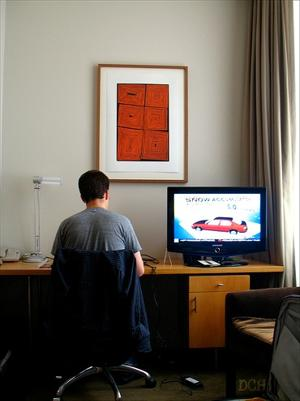person: (49, 169, 146, 279)
